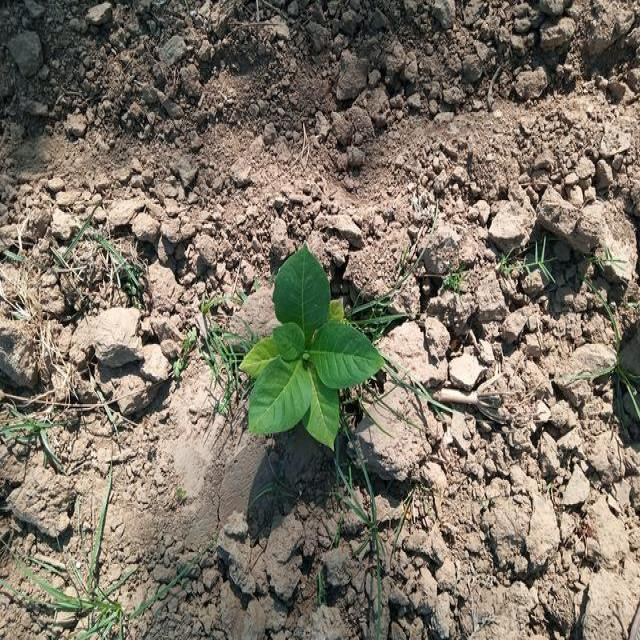crop: (259, 249, 376, 458)
